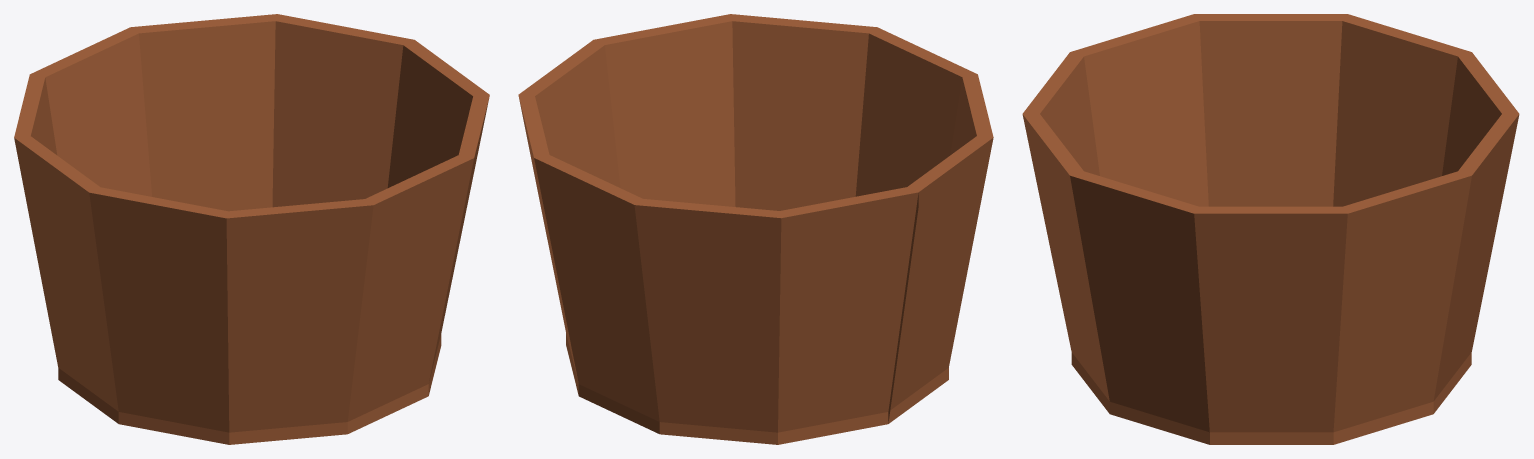
Rendered from bucket01.gltf.
The picture shows the model from 3 angles, left to right: view 1: azimuth 30°, elevation 25°; view 2: azimuth 150°, elevation 25°; view 3: azimuth 270°, elevation 25°; orthographic projection. The views are drawn at different scales.
Visible parts, largest first — view 1: Cylinder; view 2: Cylinder; view 3: Cylinder.
Boxes of the visible parts, <box> form: Cylinder: <box>14,14,489,444</box>; Cylinder: <box>518,14,993,444</box>; Cylinder: <box>1022,14,1519,444</box>.
Size of the model in its own units: 0.8149 by 0.4786 by 0.8568.
Materials: 1 (1 with a texture image).
